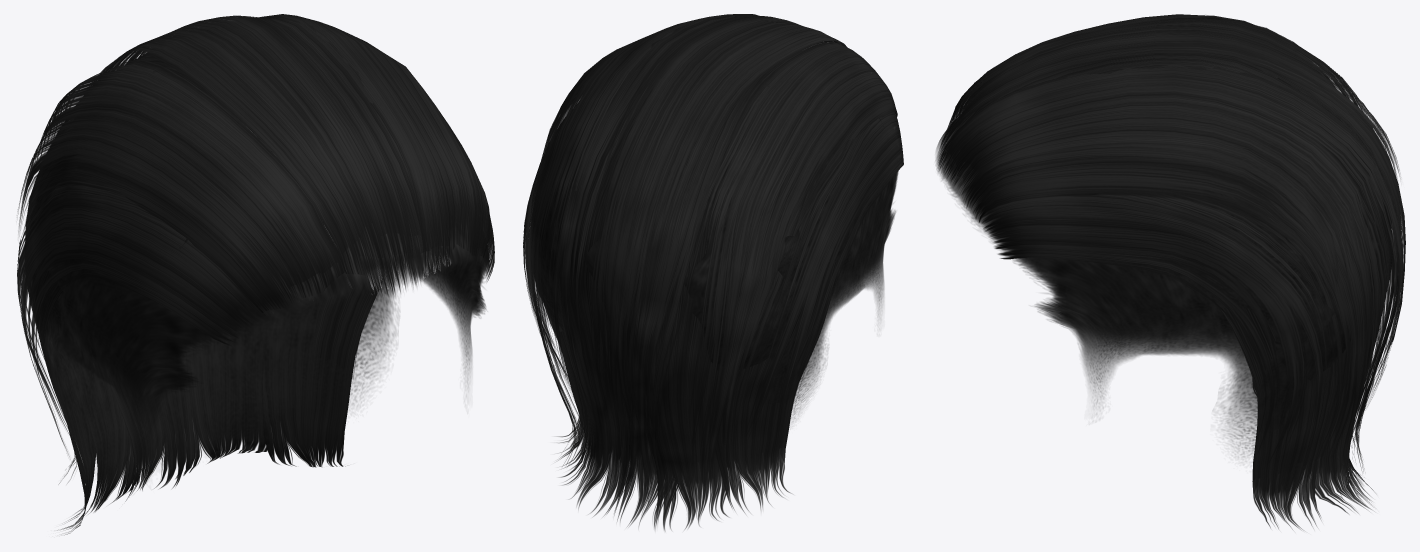
Rendered from SlickBack.glb.
3 views of the same model, side by side, from view 1: azimuth 30°, elevation 25°; view 2: azimuth 150°, elevation 25°; view 3: azimuth 270°, elevation 25° (orthographic). The views are drawn at different scales.
Visible parts, largest first — view 1: SlickBack, Scalp; view 2: SlickBack, Scalp; view 3: SlickBack, Scalp.
Part boxes in pixels (x1,y1,x2,y2): SlickBack: (17,14,494,534); Scalp: (29,157,489,479); SlickBack: (523,14,903,531); Scalp: (534,123,898,465); SlickBack: (938,14,1405,530); Scalp: (936,61,1391,477).
Size of the model in its own units: 0.1835 by 0.2592 by 0.2357.
2 materials, 2 textured.
